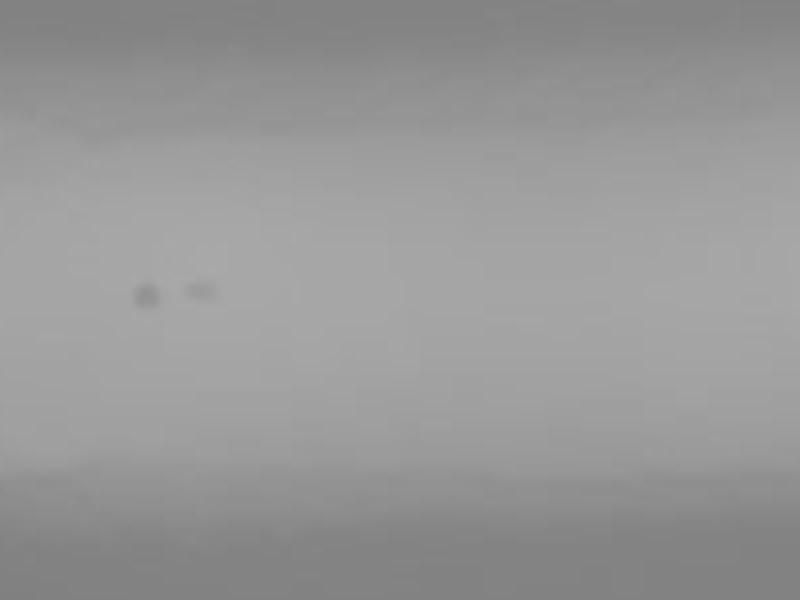defect: (180, 280, 218, 301), (134, 279, 158, 307)
